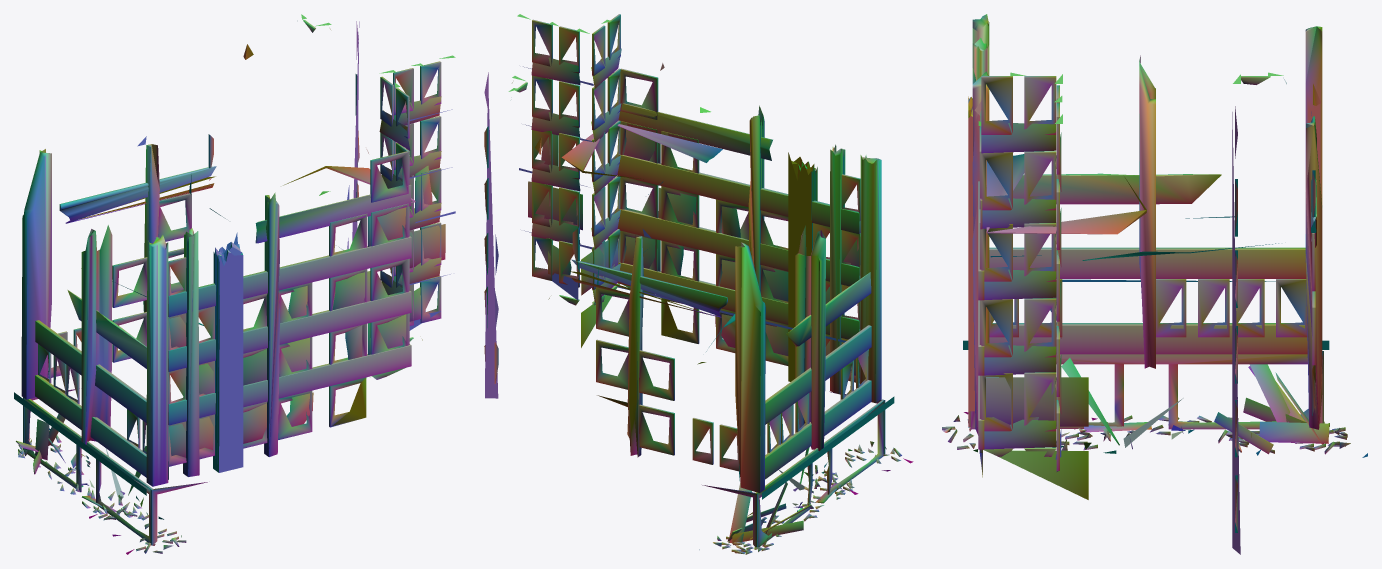
Rendered from zeometry-fragments-ruins-building-ruins_v1.glb.
3 views of the same model, side by side, from view 1: azimuth 30°, elevation 25°; view 2: azimuth 150°, elevation 25°; view 3: azimuth 270°, elevation 25° (orthographic). The views are drawn at different scales.
Visible parts, largest first — view 1: Building Ruins_v1; view 2: Building Ruins_v1; view 3: Building Ruins_v1.
Part boxes in pixels (box(x1,y1,x2,y2)): Building Ruins_v1: box(14, 14, 455, 554); Building Ruins_v1: box(484, 14, 913, 554); Building Ruins_v1: box(942, 14, 1367, 554).
Size of the model in its own units: 0.4978 by 0.5 by 0.363.
